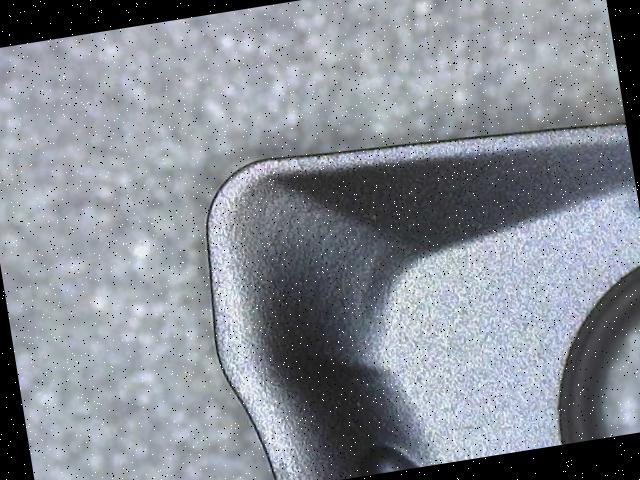normal: (203, 122, 628, 480)
